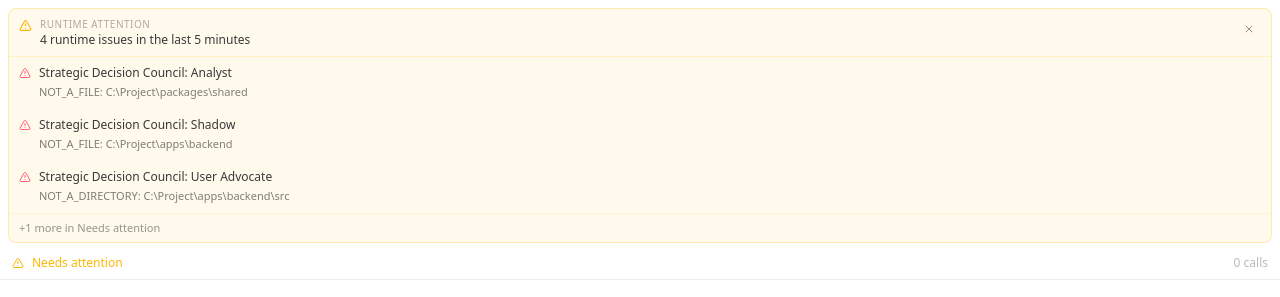
Test: ConversationManagerPanel › renders runtime attention as a dismissible recent notice limited to the latest items
expect the element with test id "runtime-attention-row-session-newest" shows "Strategic Decision Council: Analyst": met, box [39,64,232,81]
expect the element with test id "runtime-attention-row-session-second" shows "Strategic Decision Council: Shadow": met, box [39,116,235,133]
Click the button named "Dismiss runtime attention notice".
click(1249, 29)  # box [1237,17,1261,41]
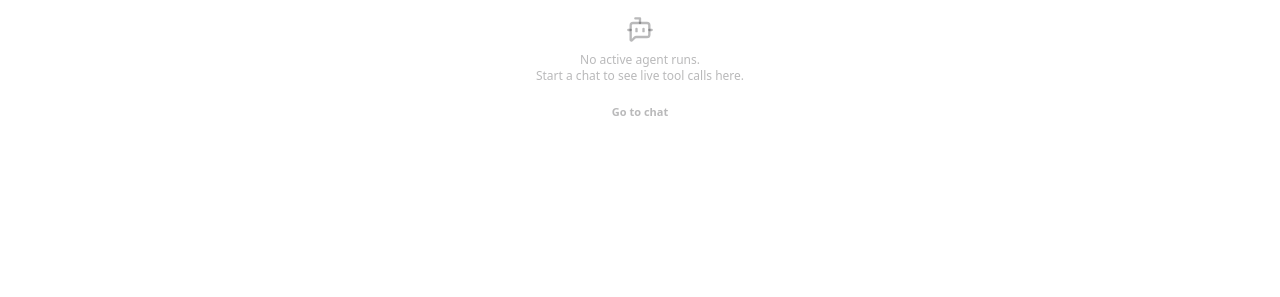
expect the message with test id "runtime-attention-notice" is gone: met
expect the text "No active agent runs" is shown: met, box [580,51,700,68]
expect the text "Needs attention" is gone: met
